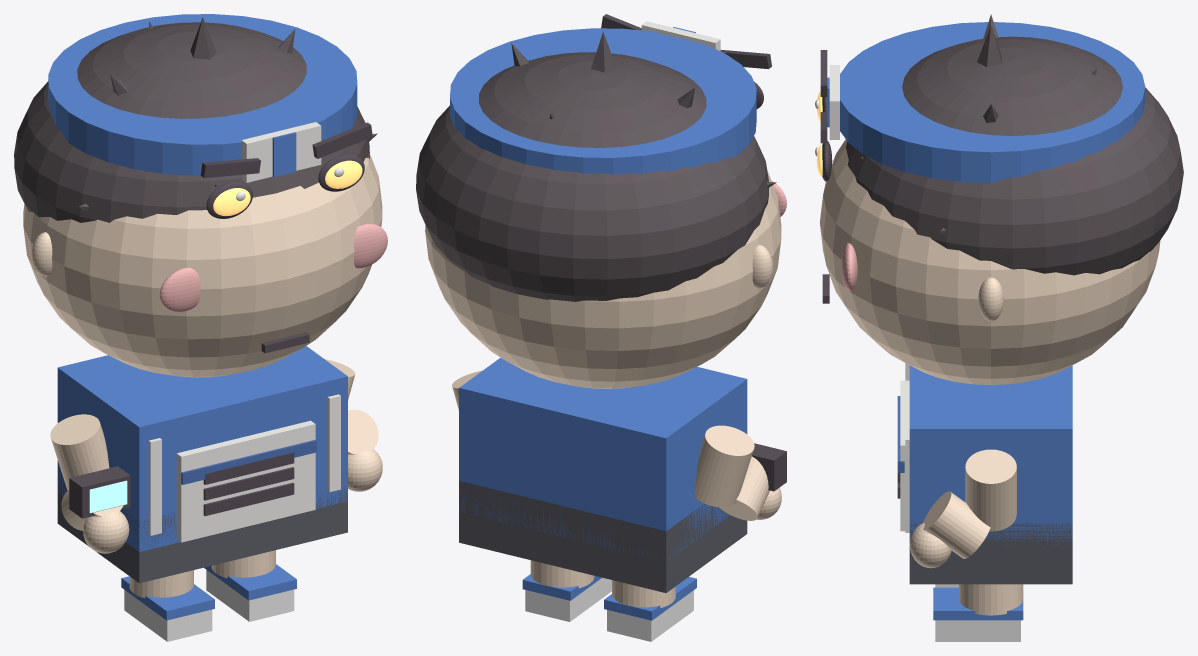
Rendered from runner.glb.
The picture shows the model from 3 angles, left to right: view 1: azimuth 30°, elevation 25°; view 2: azimuth 150°, elevation 25°; view 3: azimuth 270°, elevation 25°; orthographic projection.
Visible parts, largest first — view 1: Head, HairCap, Singlet, Headband, Shorts, Bib, UpperArm_L, HeadbandLogo, Shoe_R, Shoe_L, Watch, ShoeStripe_L (+26 smaller); view 2: HairCap, Singlet, Head, Headband, Shorts, UpperArm_L, Shoe_L, Shoe_R, Forearm_L, Leg_L, Leg_R, ShoeStripe_L (+6 smaller); view 3: HairCap, Head, Headband, Singlet, Shorts, UpperArm_R, Forearm_R, Shoe_R, Leg_R, ShoeStripe_R, Hand_R, Bib (+4 smaller).
Part boxes in pixels (left/top/right/bottom): Head: left=23, top=153, right=382, bottom=377; HairCap: left=14, top=22, right=369, bottom=222; Singlet: left=57, top=346, right=347, bottom=551; Headband: left=48, top=14, right=357, bottom=175; Shorts: left=57, top=463, right=347, bottom=583; Bib: left=176, top=420, right=315, bottom=542; UpperArm_L: left=50, top=414, right=109, bottom=490; HeadbandLogo: left=241, top=122, right=321, bottom=182; Shoe_R: left=206, top=570, right=294, bottom=621; Shoe_L: left=124, top=590, right=212, bottom=641; Watch: left=69, top=466, right=130, bottom=518; ShoeStripe_L: left=121, top=576, right=214, bottom=620; HairCap: left=416, top=52, right=768, bottom=301; Singlet: left=459, top=357, right=747, bottom=559; Head: left=425, top=170, right=781, bottom=388; Headband: left=450, top=28, right=756, bottom=174; Shorts: left=459, top=481, right=747, bottom=592; UpperArm_L: left=694, top=425, right=754, bottom=507; Shoe_L: left=607, top=590, right=693, bottom=641; Shoe_R: left=525, top=577, right=611, bottom=621; Forearm_L: left=719, top=456, right=769, bottom=520; Leg_L: left=612, top=580, right=675, bottom=607; Leg_R: left=530, top=560, right=594, bottom=588; ShoeStripe_L: left=604, top=577, right=696, bottom=620; HairCap: left=846, top=36, right=1183, bottom=275; Head: left=820, top=139, right=1160, bottom=384; Headband: left=840, top=22, right=1145, bottom=182; Singlet: left=909, top=365, right=1072, bottom=548; Shorts: left=909, top=522, right=1072, bottom=584; UpperArm_R: left=965, top=449, right=1016, bottom=531; Forearm_R: left=923, top=491, right=990, bottom=558; Shoe_R: left=935, top=620, right=1020, bottom=641; Leg_R: left=959, top=584, right=1023, bottom=615; ShoeStripe_R: left=933, top=587, right=1023, bottom=620; Hand_R: left=909, top=523, right=951, bottom=568; Bib: left=900, top=380, right=909, bottom=531.
Bounding box in the file's own units: 1.21 × 2 × 1.14.
